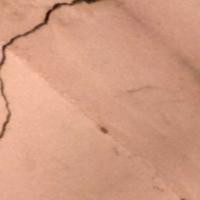crack: (0, 1, 106, 140)
